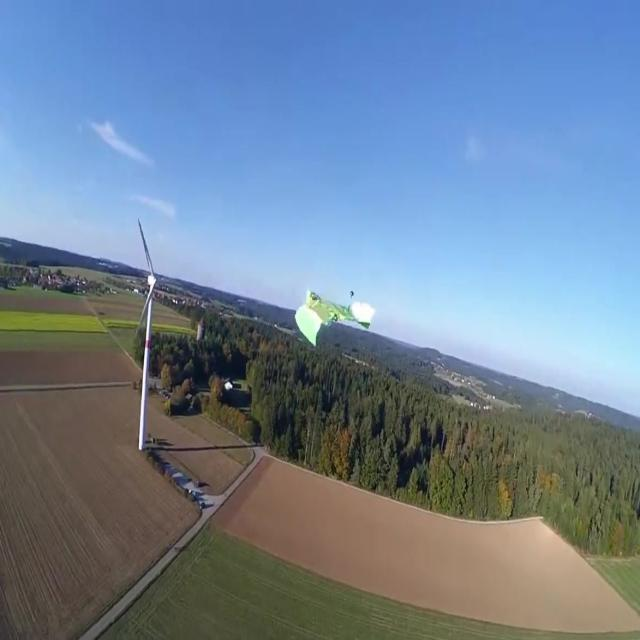iha: (326, 286, 343, 348)
